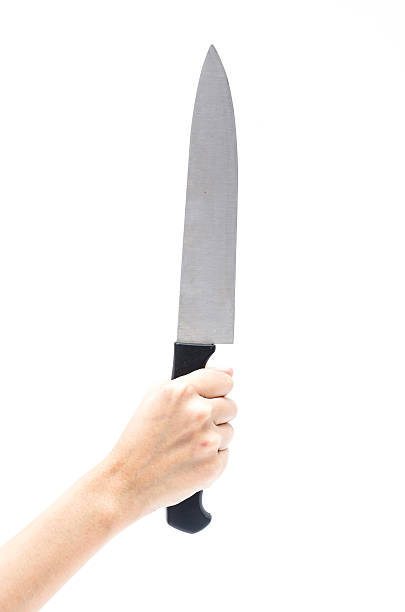knife: (163, 40, 239, 536)
